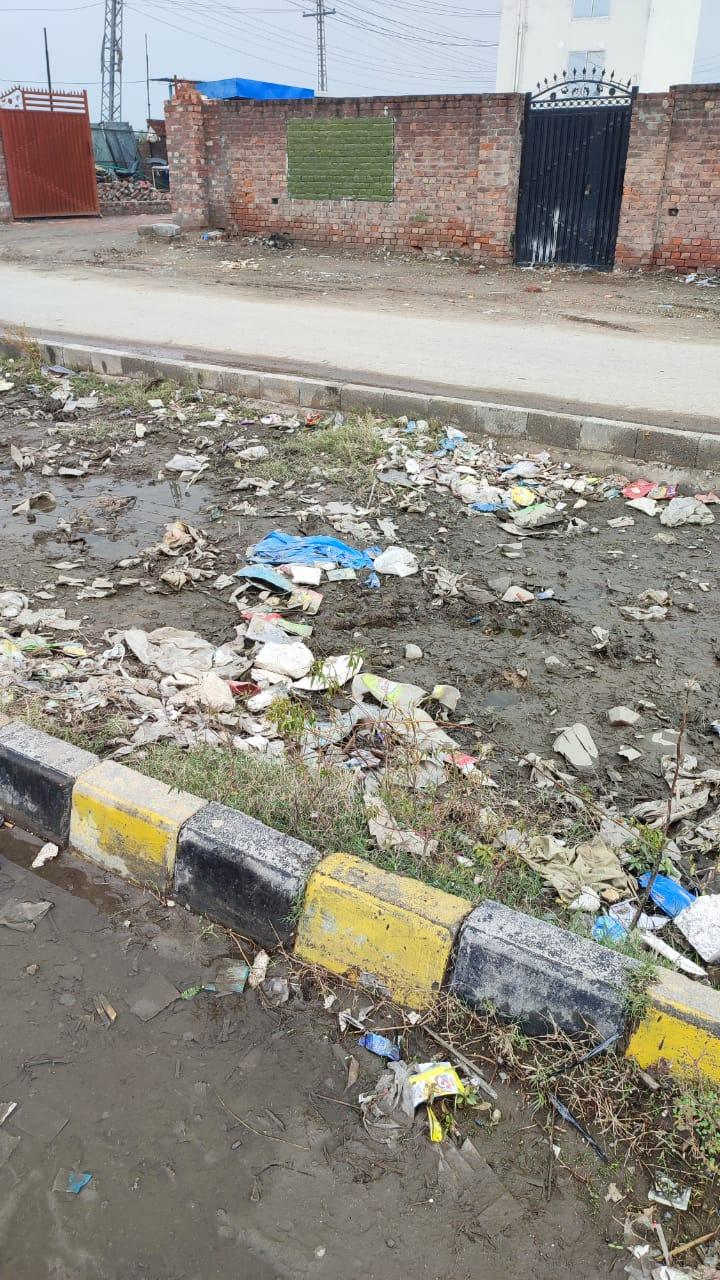garbage: (16, 576, 655, 795), (231, 388, 720, 538)
